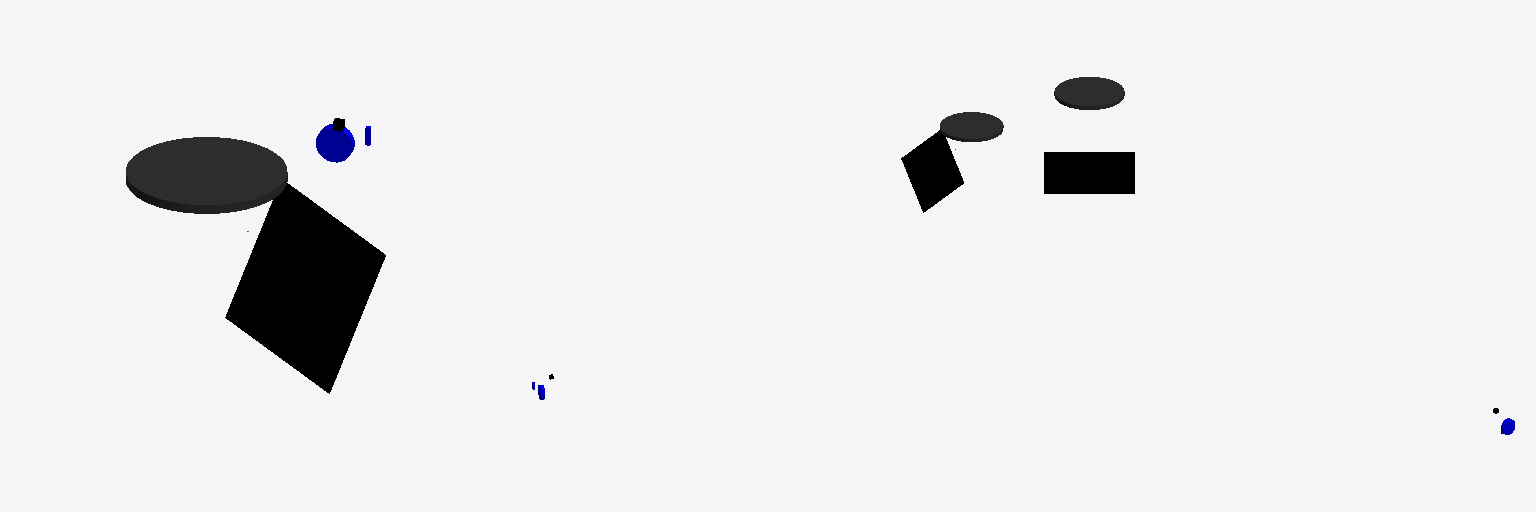
URDF robot description (baxter):
<?xml version="1.0" encoding="utf-8"?>
<!-- =================================================================================== -->
<!-- |    This document was autogenerated by xacro from baxter_description/urdf/left.xacro | -->
<!-- |    EDITING THIS FILE BY HAND IS NOT RECOMMENDED                                 | -->
<!-- =================================================================================== -->
<robot name="baxter" xmlns:xacro="http://www.ros.org/wiki/xacro">
  <link name="base">
  </link>
  <link name="torso">
    <visual>
      <origin rpy="0 0 0" xyz="0 0 0"/>
      <geometry>
        <mesh filename="package://baxter_description/meshes/torso/base_link.DAE"/>
      </geometry>
      <material name="darkgray">
        <color rgba=".2 .2 .2 1"/>
      </material>
    </visual>
    <inertial>
      <origin rpy="0 0 0" xyz="0.000000 0.000000 0.000000"/>
      <mass value="35.336455"/>
      <inertia ixx="1.849155" ixy="-0.000354" ixz="-0.154188" iyy="1.662671" iyz="0.003292" izz="0.802239"/>
    </inertial>
  </link>
  <link name="left_torso_itb">
    <inertial>
      <origin rpy="0 0 0" xyz="0.000000 0.000000 0.000000"/>
      <mass value="0.0001"/>
      <inertia ixx="1e-08" ixy="0" ixz="0" iyy="1e-08" iyz="0" izz="1e-08"/>
    </inertial>
  </link>
  <link name="head">
    <visual>
      <origin rpy="0 0 0" xyz="0 0 .00953"/>
      <geometry>
        <mesh filename="package://baxter_description/meshes/head/H0.DAE"/>
      </geometry>
      <material name="darkgray">
        <color rgba=".2 .2 .2 1"/>
      </material>
    </visual>
    <collision>
      <origin rpy="0 0 0" xyz="0.0 0 0.0"/>
      <geometry>
        <sphere radius="0.001"/>
      </geometry>
    </collision>
    <inertial>
      <origin rpy="0 0 0" xyz="0 0 0"/>
      <mass value="0.547767"/>
      <inertia ixx="0.004641" ixy="0.000159" ixz="0.000242" iyy="0.003295" iyz="-0.001324" izz="0.003415"/>
    </inertial>
  </link>
  <link name="sonar_ring">
    <visual>
      <origin rpy="0 0 0" xyz="-.0347 0 .00953"/>
      <geometry>
        <cylinder length="0.01" radius="0.085"/>
      </geometry>
      <material name="darkgray">
        <color rgba=".2 .2 .2 1"/>
      </material>
    </visual>
    <collision>
      <origin rpy="0 0 0" xyz="0.0 0 0.0"/>
      <geometry>
        <sphere radius="0.001"/>
      </geometry>
    </collision>
    <inertial>
      <origin rpy="0 0 0" xyz="0 0 0"/>
      <mass value="0.0001"/>
      <inertia ixx="1e-08" ixy="0" ixz="0" iyy="1e-08" iyz="0" izz="1e-08"/>
    </inertial>
  </link>
  <link name="screen">
    <visual>
      <origin rpy="0 -1.57079632679 0" xyz="0 -.00953 -.0347"/>
      <geometry>
        <mesh filename="package://baxter_description/meshes/head/H1.DAE"/>
      </geometry>
      <material name="darkred">
        <color rgba=".5 .1 .1 1"/>
      </material>
    </visual>
    <collision>
      <origin rpy="0 0 0" xyz="0.0 0 0.0"/>
      <geometry>
        <sphere radius="0.001"/>
      </geometry>
    </collision>
    <inertial>
      <origin rpy="0 0 0" xyz="0 0 0"/>
      <mass value="0.440171"/>
      <inertia ixx="0.004006" ixy="0.000230" ixz="0.000002" iyy="0.002800" iyz="0.000029" izz="0.001509"/>
    </inertial>
  </link>
  <link name="display">
    <visual>
      <origin rpy="0.2617993877991494 0 0" xyz="0 0 0"/>
      <geometry>
        <box size="0.218 0.16 0.001"/>
      </geometry>
      <material name="black">
        <color rgba="0 0 0 1"/>
      </material>
    </visual>
    <inertial>
      <origin rpy="0 0 0" xyz="0 0 0"/>
      <mass value="0.0001"/>
      <inertia ixx="1e-08" ixy="0" ixz="0" iyy="1e-08" iyz="0" izz="1e-08"/>
    </inertial>
  </link>
  <link name="head_camera">
    <inertial>
      <origin rpy="0 0 0" xyz="0 0 0"/>
      <mass value="0.0001"/>
      <inertia ixx="1e-08" ixy="0" ixz="0" iyy="1e-08" iyz="0" izz="1e-08"/>
    </inertial>
  </link>
  <link name="dummyhead1">
    <inertial>
      <origin rpy="0 0 0" xyz="0 0 0"/>
      <mass value="0.0001"/>
      <inertia ixx="1e-08" ixy="0" ixz="0" iyy="1e-08" iyz="0" izz="1e-08"/>
    </inertial>
  </link>
  <link name="collision_head_link_1">
    <visual>
      <origin rpy="0 0 0" xyz="0 0 0"/>
      <geometry>
        <sphere radius="0.001"/>
      </geometry>
      <material name="red">
        <color rgba="0.8 0.3 0.3 0.3"/>
      </material>
    </visual>
    <collision>
      <origin rpy="0 0 0.0" xyz="-0.07 -0.04 0.0"/>
      <geometry>
        <sphere radius="0.22"/>
      </geometry>
    </collision>
    <inertial>
      <origin rpy="0 0 0" xyz="0 0 0"/>
      <mass value="0.0001"/>
      <inertia ixx="1e-08" ixy="0" ixz="0" iyy="1e-08" iyz="0" izz="1e-08"/>
    </inertial>
  </link>
  <link name="collision_head_link_2">
    <visual>
      <origin rpy="0 0 0" xyz="0 0 0"/>
      <geometry>
        <sphere radius="0.001"/>
      </geometry>
      <material name="red">
        <color rgba="0.8 0.3 0.3 0.3"/>
      </material>
    </visual>
    <collision>
      <origin rpy="0 0 0" xyz="-0.07 0.04 0.00"/>
      <geometry>
        <sphere radius="0.22"/>
      </geometry>
    </collision>
    <inertial>
      <origin rpy="0 0 0" xyz="0 0 0"/>
      <mass value="0.0001"/>
      <inertia ixx="1e-08" ixy="0" ixz="0" iyy="1e-08" iyz="0" izz="1e-08"/>
    </inertial>
  </link>
  <joint name="collision_head_1" type="fixed">
    <origin rpy="0 0 0" xyz="0.11 0 0.75"/>
    <parent link="base"/>
    <child link="collision_head_link_1"/>
  </joint>
  <joint name="collision_head_2" type="fixed">
    <origin rpy="0 0 0" xyz="0.11 0 0.75"/>
    <parent link="base"/>
    <child link="collision_head_link_2"/>
  </joint>
  <joint name="dummy" type="fixed">
    <origin rpy="0 0 0" xyz="0 0 0"/>
    <parent link="head"/>
    <child link="dummyhead1"/>
  </joint>
  <joint name="torso_t0" type="fixed">
    <origin rpy="0 0 0" xyz="0 0 0"/>
    <parent link="base"/>
    <child link="torso"/>
    <limit effort="50000" lower="-3.01" upper="3.01" velocity="10000"/>
  </joint>
  <joint name="left_torso_itb_fixed" type="fixed">
    <origin rpy="-1.57079632679 3.1415 0" xyz="-0.08897 0.15593 0.389125"/>
    <parent link="torso"/>
    <child link="left_torso_itb"/>
  </joint>
  <joint name="head_pan" type="fixed">
    <origin rpy="0 0 0" xyz="0.06 0 0.686"/>
    <axis xyz="0 0 1"/>
    <parent link="torso"/>
    <child link="head"/>
    <limit effort="50000" lower="-1.3963" upper="1.3963" velocity="10000"/>
    <dynamics damping="0.7" friction="0.0"/>
  </joint>
  <joint name="head_nod" type="fixed">
    <origin rpy="1.75057 0 1.57079632679" xyz=".1227 0 0"/>
    <parent link="head"/>
    <child link="screen"/>
  </joint>
  <joint name="head_camera" type="fixed">
    <origin rpy="1.75057 0 1.57079632679" xyz="0.12839 0 0.06368"/>
    <parent link="head"/>
    <child link="head_camera"/>
  </joint>
  <joint name="display_joint" type="fixed">
    <origin rpy="0 0 0" xyz="0.0 -0.016 0.0"/>
    <parent link="screen"/>
    <child link="display"/>
  </joint>
  <joint name="sonar_s0" type="fixed">
    <origin rpy="0 0 0" xyz="0.0947 0 .817"/>
    <axis xyz="0 0 1"/>
    <parent link="torso"/>
    <child link="sonar_ring"/>
  </joint>
  <link name="left_arm_mount">
    <!-- all defaults -->
    <inertial>
      <origin rpy="0 0 0" xyz="0 0 0"/>
      <mass value="0.0001"/>
      <inertia ixx="1e-08" ixy="0" ixz="0" iyy="1e-08" iyz="0" izz="1e-08"/>
    </inertial>
  </link>
  <link name="left_upper_shoulder">
    <visual>
      <origin rpy="0 0 0" xyz="0 0 0"/>
      <geometry>
        <mesh filename="package://baxter_description/meshes/upper_shoulder/S0.DAE"/>
      </geometry>
      <material name="darkred">
        <color rgba=".5 .1 .1 1"/>
      </material>
    </visual>
    <collision>
      <origin rpy="0 0 0" xyz="0 0 0.1361"/>
      <geometry>
        <cylinder length="0.2722" radius="0.06"/>
      </geometry>
    </collision>
    <inertial>
      <origin rpy="0 0 0" xyz="0.01783 0.00086 0.19127"/>
      <mass value="5.70044"/>
      <inertia ixx="0.04709102262" ixy="0.00012787556" ixz="0.00614870039" iyy="0.03766976455" iyz="0.00078086899" izz="0.03595988478"/>
    </inertial>
  </link>
  <link name="left_lower_shoulder">
    <visual>
      <origin rpy="0 0 0" xyz="0 0 0"/>
      <geometry>
        <mesh filename="package://baxter_description/meshes/lower_shoulder/S1.DAE"/>
      </geometry>
      <material name="darkred">
        <color rgba=".5 .1 .1 1"/>
      </material>
    </visual>
    <collision>
      <origin rpy="0 0 0" xyz="0 0 0"/>
      <geometry>
        <cylinder length="0.12" radius="0.06"/>
      </geometry>
    </collision>
    <inertial>
      <origin rpy="0 0 0" xyz="0.06845 0.00269 -0.00529"/>
      <mass value="3.22698"/>
      <inertia ixx="0.01175209419" ixy="-0.00030096398" ixz="0.00207675762" iyy="0.0278859752" iyz="-0.00018821993" izz="0.02078749298"/>
    </inertial>
  </link>
  <link name="left_upper_elbow">
    <visual>
      <origin rpy="0 0 0" xyz="0 0 0"/>
      <geometry>
        <mesh filename="package://baxter_description/meshes/upper_elbow/E0.DAE"/>
      </geometry>
      <material name="darkred">
        <color rgba=".5 .1 .1 1"/>
      </material>
    </visual>
    <collision>
      <origin rpy="0 0 0" xyz="0 0 -0.0535"/>
      <geometry>
        <cylinder length="0.107" radius="0.06"/>
      </geometry>
    </collision>
    <inertial>
      <origin rpy="0 0 0" xyz="-0.00276 0.00132 0.18086"/>
      <mass value="4.31272"/>
      <inertia ixx="0.02661733557" ixy="0.00029270634" ixz="0.00392189887" iyy="0.02844355207" iyz="0.0010838933" izz="0.01248008322"/>
    </inertial>
  </link>
  <link name="left_upper_elbow_visual">
    <collision>
      <origin rpy="0 0 0" xyz="0 0 0.1365"/>
      <geometry>
        <cylinder length="0.273" radius="0.06"/>
      </geometry>
    </collision>
    <inertial>
      <origin rpy="0 0 0" xyz="0 0 0"/>
      <mass value="0.0001"/>
      <inertia ixx="1e-08" ixy="0" ixz="0" iyy="1e-08" iyz="0" izz="1e-08"/>
    </inertial>
  </link>
  <link name="left_lower_elbow">
    <visual>
      <origin rpy="0 0 0" xyz="0 0 0"/>
      <geometry>
        <mesh filename="package://baxter_description/meshes/lower_elbow/E1.DAE"/>
      </geometry>
      <material name="darkred">
        <color rgba=".5 .1 .1 1"/>
      </material>
    </visual>
    <collision>
      <origin rpy="0 0 0" xyz="0.0 0.0 0.0"/>
      <geometry>
        <cylinder length="0.10" radius="0.06"/>
      </geometry>
    </collision>
    <inertial>
      <origin rpy="0 0 0" xyz="0.02611 0.00159 -0.01117"/>
      <mass value="2.07206"/>
      <inertia ixx="0.00711582686" ixy="0.00036036173" ixz="0.0007459496" iyy="0.01318227876" iyz="-0.00019663418" izz="0.00926852064"/>
    </inertial>
  </link>
  <link name="left_upper_forearm">
    <visual>
      <origin rpy="0 0 0" xyz="0 0 0"/>
      <geometry>
        <mesh filename="package://baxter_description/meshes/upper_forearm/W0.DAE"/>
      </geometry>
      <material name="darkred">
        <color rgba=".5 .1 .1 1"/>
      </material>
    </visual>
    <collision>
      <origin rpy="0 0 0" xyz="0 0 -0.044"/>
      <geometry>
        <cylinder length="0.088" radius="0.06"/>
      </geometry>
    </collision>
    <inertial>
      <origin rpy="0 0 0" xyz="-0.00168 0.0046 0.13952"/>
      <mass value="2.24665"/>
      <inertia ixx="0.01667742825" ixy="0.00018403705" ixz="0.00018657629" iyy="0.01675457264" iyz="-0.00064732352" izz="0.0037463115"/>
    </inertial>
  </link>
  <link name="left_upper_forearm_visual">
    <collision>
      <origin rpy="0 0 0" xyz="0 0 0.136"/>
      <geometry>
        <cylinder length="0.272" radius="0.06"/>
      </geometry>
    </collision>
    <inertial>
      <origin rpy="0 0 0" xyz="0 0 0"/>
      <mass value="0.0001"/>
      <inertia ixx="1e-08" ixy="0" ixz="0" iyy="1e-08" iyz="0" izz="1e-08"/>
    </inertial>
  </link>
  <link name="left_arm_itb">
    <inertial>
      <origin rpy="0 0 0" xyz="0.000000 0.000000 0.000000"/>
      <mass value="0.0001"/>
      <inertia ixx="1e-08" ixy="0" ixz="0" iyy="1e-08" iyz="0" izz="1e-08"/>
    </inertial>
  </link>
  <link name="left_lower_forearm">
    <visual>
      <origin rpy="0 0 0" xyz="0 0 0"/>
      <geometry>
        <mesh filename="package://baxter_description/meshes/lower_forearm/W1.DAE"/>
      </geometry>
      <material name="darkred">
        <color rgba=".5 .1 .1 1"/>
      </material>
    </visual>
    <collision>
      <origin rpy="0 0 0" xyz="0 0 0"/>
      <geometry>
        <cylinder length="0.10" radius="0.06"/>
      </geometry>
    </collision>
    <inertial>
      <origin rpy="0 0 0" xyz="0.06041 0.00697 0.006"/>
      <mass value="1.60979"/>
      <inertia ixx="0.00387607152" ixy="-0.00044384784" ixz="-0.00021115038" iyy="0.00700537914" iyz="0.00015348067" izz="0.0055275524"/>
    </inertial>
  </link>
  <link name="left_wrist">
    <visual>
      <origin rpy="0 0 0" xyz="0 0 0"/>
      <geometry>
        <mesh filename="package://baxter_description/meshes/wrist/W2.DAE"/>
      </geometry>
      <material name="lightgrey">
        <color rgba=".1 .1 .1 1"/>
      </material>
    </visual>
    <collision>
      <origin rpy="0 0 0" xyz="0 0 0"/>
      <geometry>
        <cylinder length="0.165" radius="0.06"/>
      </geometry>
    </collision>
    <inertial>
      <origin rpy="0 0 0" xyz="0.00198 0.00125 0.01855"/>
      <mass value="0.35093"/>
      <inertia ixx="0.00025289155" ixy="0.00000575311" ixz="-0.00000159345" iyy="0.0002688601" iyz="-0.00000519818" izz="0.0003074118"/>
    </inertial>
  </link>
  <link name="left_hand">
    <collision>
      <origin rpy="0 0 0" xyz="0 0 -0.0232"/>
      <geometry>
        <cylinder length="0.0464" radius="0.04"/>
      </geometry>
    </collision>
    <inertial>
      <origin rpy="0 0 0" xyz="0.01093 0.00042 -0.01532"/>
      <mass value="0.19125"/>
      <inertia ixx="0.00017588" ixy="0.00000147073" ixz="0.0000243633" iyy="0.00021166377" iyz="0.00000172689" izz="0.00023745397"/>
    </inertial>
  </link>
  <link name="left_hand_camera">
    <visual>
      <origin rpy="0 0 0" xyz="0 0 0"/>
      <geometry>
        <cylinder length="0.01" radius="0.02"/>
      </geometry>
      <material name="blue">
        <color rgba="0 0 1 0.8"/>
      </material>
    </visual>
    <inertial>
      <origin rpy="0 0 0" xyz="0 0 0"/>
      <mass value="0.0001"/>
      <inertia ixx="1e-08" ixy="0" ixz="0" iyy="1e-08" iyz="0" izz="1e-08"/>
    </inertial>
  </link>
  <link name="left_hand_camera_axis">
    <inertial>
      <origin rpy="0 0 0" xyz="0 0 0"/>
      <mass value="0.0001"/>
      <inertia ixx="1e-08" ixy="0" ixz="0" iyy="1e-08" iyz="0" izz="1e-08"/>
    </inertial>
  </link>
  <link name="left_hand_range">
    <visual>
      <origin rpy="0 0 0" xyz="0 0 0"/>
      <geometry>
        <box size="0.005 .02 .005"/>
      </geometry>
      <material name="blue">
        <color rgba="0 0 1 0.8"/>
      </material>
    </visual>
    <inertial>
      <origin rpy="0 0 0" xyz="0 0 0"/>
      <mass value="0.0001"/>
      <inertia ixx="1e-08" ixy="0" ixz="0" iyy="1e-08" iyz="0" izz="1e-08"/>
    </inertial>
  </link>
  <link name="left_hand_accelerometer">
    <visual>
      <origin rpy="0 0 0" xyz="0 0 0"/>
      <geometry>
        <box size="0.01 0.01 0.01"/>
      </geometry>
      <material name="black">
        <color rgba="0 0 0 1"/>
      </material>
    </visual>
    <inertial>
      <origin rpy="0 0 0" xyz="0.000000 0.000000 0.000000"/>
      <mass value="0.0001"/>
      <inertia ixx="1e-08" ixy="0" ixz="0" iyy="1e-08" iyz="0" izz="1e-08"/>
    </inertial>
  </link>
  <joint name="left_torso_arm_mount" type="fixed">
    <origin rpy="0 0 0.7854" xyz="0.024645 0.219645 0.118588"/>
    <parent link="torso"/>
    <child link="left_arm_mount"/>
  </joint>
  <joint name="left_s0" type="revolute">
    <origin rpy="0 0 0" xyz="0.055695 0 0.011038"/>
    <axis xyz="0 0 1"/>
    <parent link="left_arm_mount"/>
    <child link="left_upper_shoulder"/>
    <limit effort="50.0" lower="-1.70167993878" upper="1.70167993878" velocity="1.5"/>
    <dynamics damping="0.7" friction="0.0"/>
  </joint>
  <joint name="left_s1" type="revolute">
    <origin rpy="-1.57079632679 0 0" xyz="0.069 0 0.27035"/>
    <axis xyz="0 0 1"/>
    <parent link="left_upper_shoulder"/>
    <child link="left_lower_shoulder"/>
    <limit effort="50.0" lower="-2.147" upper="1.047" velocity="1.5"/>
    <dynamics damping="0.7" friction="0.0"/>
  </joint>
  <joint name="left_e0" type="revolute">
    <origin rpy="1.57079632679 0 1.57079632679" xyz="0.102 0 0"/>
    <axis xyz="0 0 1"/>
    <parent link="left_lower_shoulder"/>
    <child link="left_upper_elbow"/>
    <limit effort="50.0" lower="-3.05417993878" upper="3.05417993878" velocity="1.5"/>
    <dynamics damping="0.7" friction="0.0"/>
  </joint>
  <joint name="left_e0_fixed" type="fixed">
    <origin rpy="1.57079632679 0 1.57079632679" xyz="0.107 0 0"/>
    <axis xyz="0 0 1"/>
    <parent link="left_lower_shoulder"/>
    <child link="left_upper_elbow_visual"/>
  </joint>
  <joint name="left_e1" type="revolute">
    <origin rpy="-1.57079632679 -1.57079632679 0" xyz="0.069 0 0.26242"/>
    <axis xyz="0 0 1"/>
    <parent link="left_upper_elbow"/>
    <child link="left_lower_elbow"/>
    <limit effort="50.0" lower="-0.05" upper="2.618" velocity="1.5"/>
    <dynamics damping="0.7" friction="0.0"/>
  </joint>
  <joint name="left_w0" type="revolute">
    <origin rpy="1.57079632679 0 1.57079632679" xyz="0.10359 0 0"/>
    <axis xyz="0 0 1"/>
    <parent link="left_lower_elbow"/>
    <child link="left_upper_forearm"/>
    <limit effort="15.0" lower="-3.059" upper="3.059" velocity="4.0"/>
    <dynamics damping="0.7" friction="0.0"/>
  </joint>
  <joint name="left_w0_fixed" type="fixed">
    <origin rpy="1.57079632679 0 1.57079632679" xyz="0.088 0 0"/>
    <axis xyz="0 0 1"/>
    <parent link="left_lower_elbow"/>
    <child link="left_upper_forearm_visual"/>
  </joint>
  <joint name="left_w0_to_itb_fixed" type="fixed">
    <origin rpy="-1.57079632679 0 1.57079632679" xyz="-0.0565 0 0.12"/>
    <axis xyz="0 0 1"/>
    <parent link="left_upper_forearm"/>
    <child link="left_arm_itb"/>
  </joint>
  <joint name="left_w1" type="revolute">
    <origin rpy="-1.57079632679 -1.57079632679 0" xyz="0.01 0 0.2707"/>
    <axis xyz="0 0 1"/>
    <parent link="left_upper_forearm"/>
    <child link="left_lower_forearm"/>
    <limit effort="15.0" lower="-1.57079632679" upper="2.094" velocity="4.0"/>
    <dynamics damping="0.7" friction="0.0"/>
  </joint>
  <joint name="left_w2" type="revolute">
    <origin rpy="1.57079632679 0 1.57079632679" xyz="0.115975 0 0"/>
    <axis xyz="0 0 1"/>
    <parent link="left_lower_forearm"/>
    <child link="left_wrist"/>
    <limit effort="15.0" lower="-3.059" upper="3.059" velocity="4.0"/>
    <dynamics damping="0.7" friction="0.0"/>
  </joint>
  <joint name="left_hand" type="fixed">
    <origin rpy="0 0 0" xyz="0 0 0.11355"/>
    <axis xyz="0 0 1"/>
    <parent link="left_wrist"/>
    <child link="left_hand"/>
  </joint>
  <joint name="left_hand_camera" type="fixed">
    <origin rpy="0 0 -1.57079633" xyz="0.03825 0.012 0.015355"/>
    <parent link="left_hand"/>
    <child link="left_hand_camera"/>
  </joint>
  <joint name="left_hand_camera_axis" type="fixed">
    <origin rpy="0 0 0" xyz="0.03825 0.012 0.015355"/>
    <parent link="left_hand"/>
    <child link="left_hand_camera_axis"/>
  </joint>
  <joint name="left_hand_range" type="fixed">
    <origin rpy="0 -1.57079632679 -1.57079632679" xyz="0.032 -0.020245 0.0288"/>
    <parent link="left_hand"/>
    <child link="left_hand_range"/>
  </joint>
  <joint name="left_hand_accelerometer" type="fixed">
    <origin rpy="0 0 0" xyz="0.00198 0.000133 -0.0146"/>
    <parent link="left_hand"/>
    <child link="left_hand_accelerometer"/>
  </joint>
</robot>

--- What the picture shows (computed from the rendered views, not written in the file) ---
The picture shows the robot from 3 angles, left to right: view 1: azimuth 30°, elevation 25°; view 2: azimuth 150°, elevation 25°; view 3: azimuth 270°, elevation 25°; orthographic projection.
Robot: baxter — 27 links, 26 joints (7 revolute, 19 fixed); root link base; default pose: all joints at 0.
Visible links, largest first — view 1: display, sonar_ring, left_hand_camera; view 2: display, sonar_ring; view 3: display, sonar_ring.
Link boxes in pixels (x1=…): display: x1=225, y1=183, x2=385, y2=393; sonar_ring: x1=126, y1=137, x2=287, y2=213; left_hand_camera: x1=316, y1=124, x2=354, y2=162; display: x1=901, y1=130, x2=963, y2=212; sonar_ring: x1=940, y1=112, x2=1003, y2=141; display: x1=1044, y1=152, x2=1134, y2=193; sonar_ring: x1=1054, y1=77, x2=1124, y2=109.
Bounding box of the posed robot: 0.8607 × 1.14 × 0.5688 m (x, y, z).
Meshes: 10 distinct files referenced, 0 mesh visuals loaded (none loaded); not drawn: 10 (reference not matched to a file when rendering).